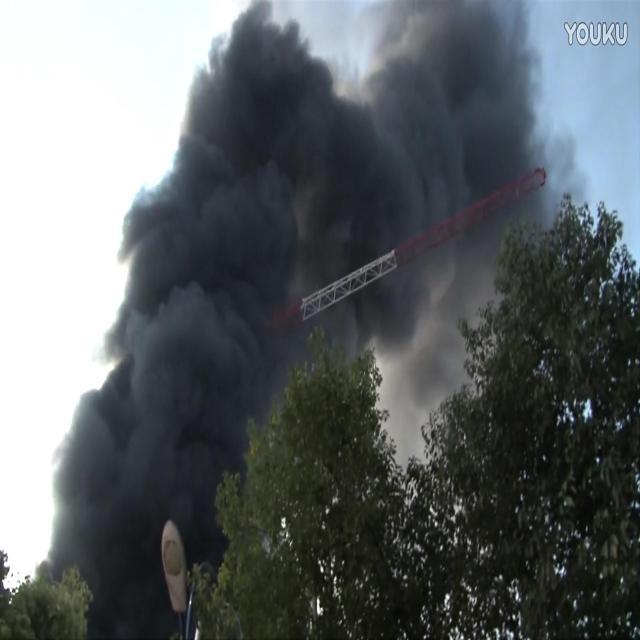Smoke: (32, 0, 588, 640)
